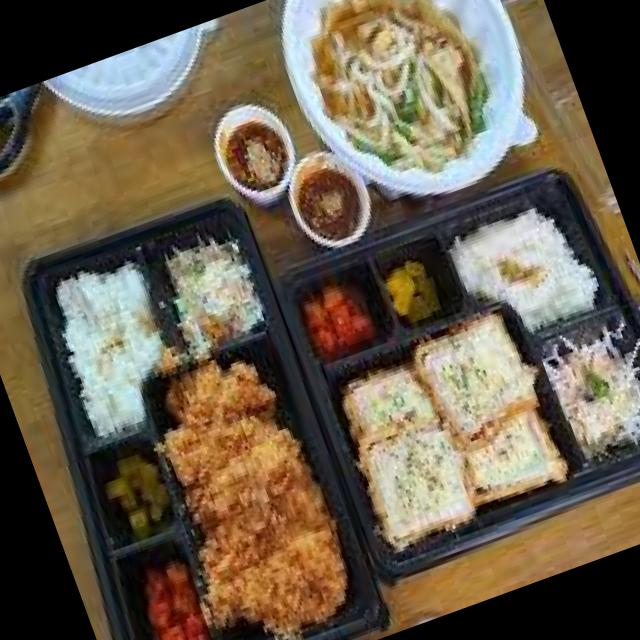plastic-bowl: (6, 186, 397, 640), (271, 154, 640, 592), (275, 0, 544, 204), (491, 0, 624, 226), (42, 16, 232, 149), (198, 86, 299, 219), (289, 144, 381, 262)
